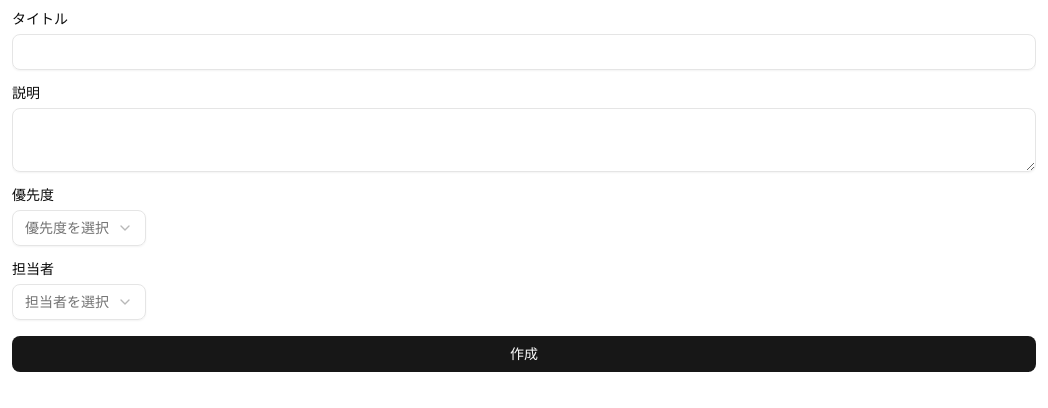
Test: TicketCreateForm › 担当者 options を props で受け取り、未割当も選択できる
The width and height of the screenshot is (1048, 408).
Click the dropdown labelled "担当者" at (79, 302), box [12,284,146,320]
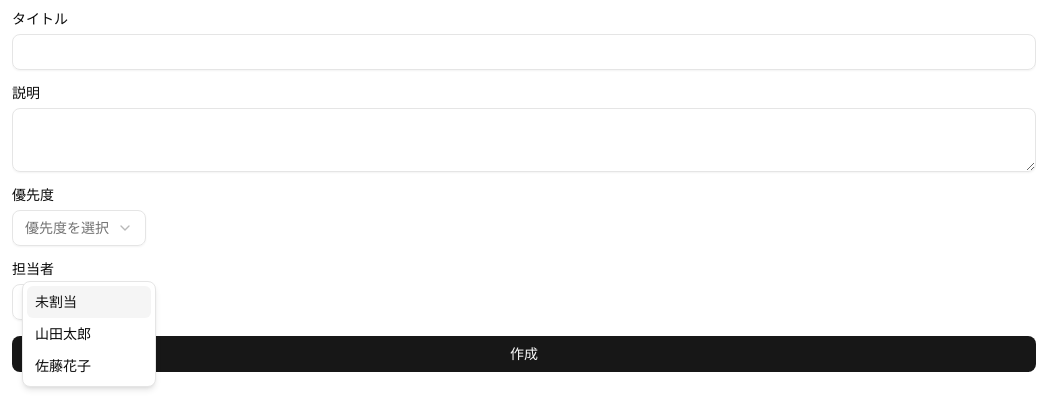
Click the option "山田太郎" at (63, 334), box [35,326,91,342]
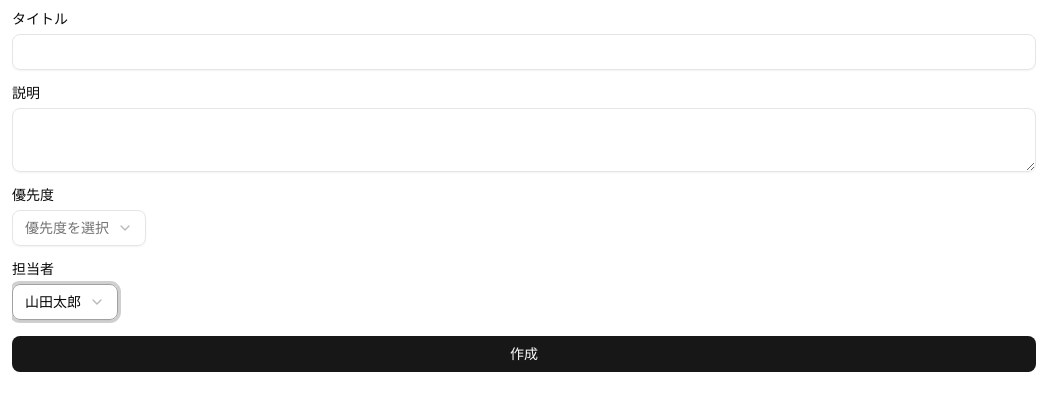
Check: the dropdown named "担当者" reads "山田太郎"
Click the dropdown named "担当者" at (65, 302), box [12,284,118,320]
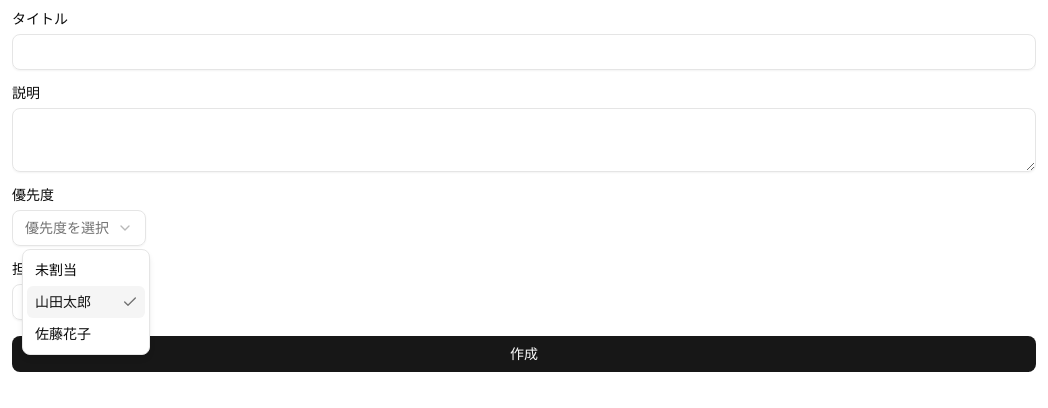
Click the option "未割当" at (56, 270), box [35,262,77,278]
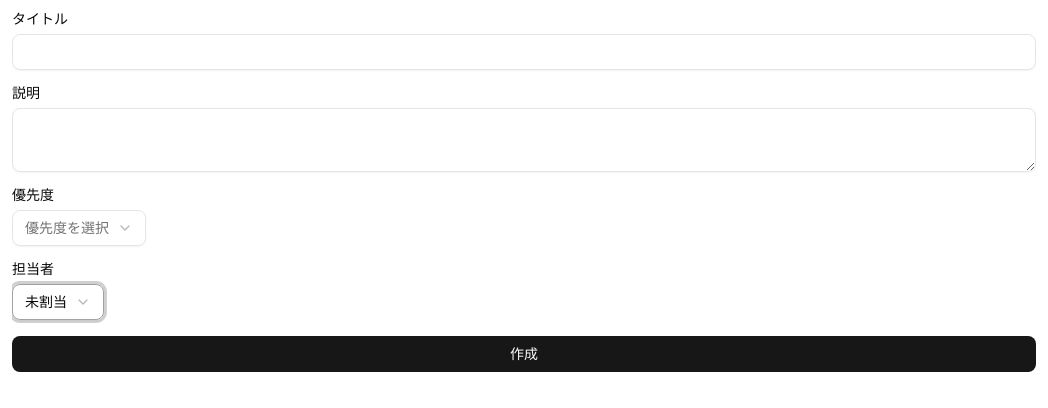
Check: the dropdown named "担当者" reads "未割当", box [12,284,104,320]
